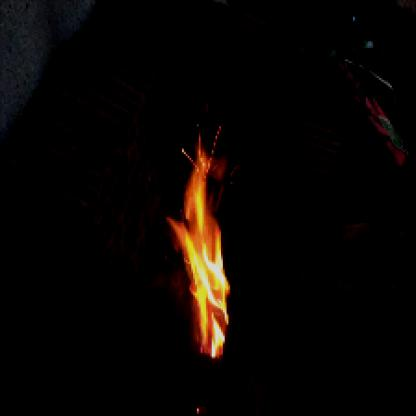Fire: (171, 113, 245, 362)
